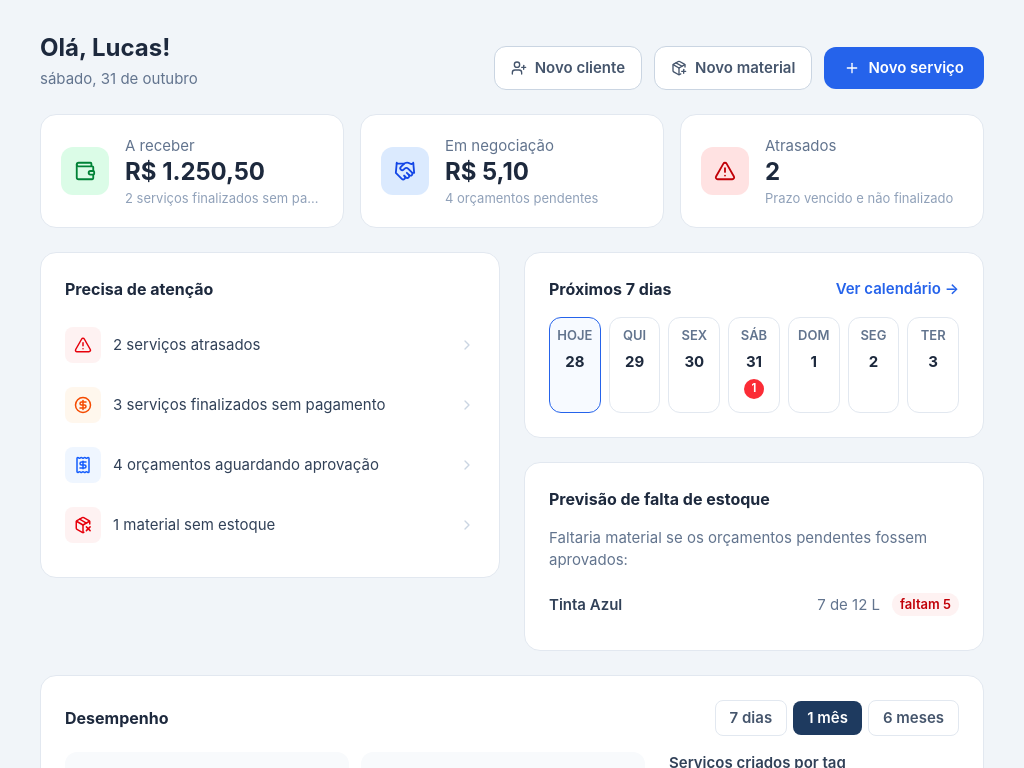
Test case: tela inicial › "Em negociação" abre o modal de orçamentos pendentes e leva aos orçamentos do serviço
The image size is (1024, 768).
Click the text "Em negociação".
click(499, 146)  # box [445,136,554,155]
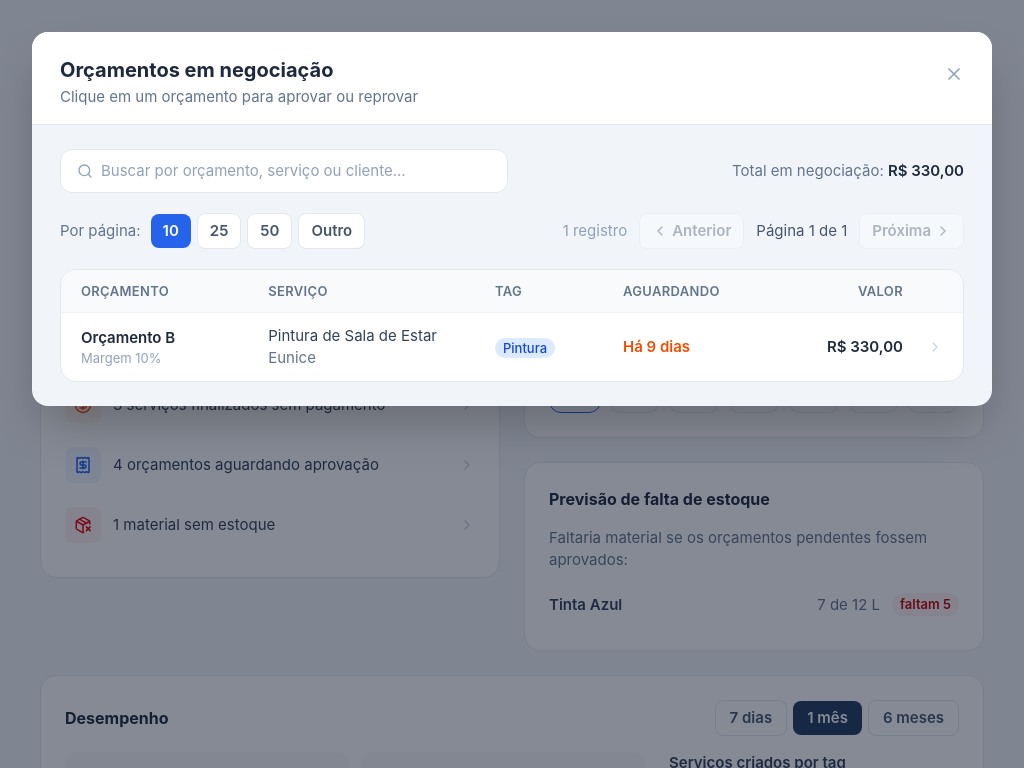
expect the heading "Orçamentos em negociação" is shown: met, box [60,58,333,82]
expect the text "Orçamento B" is shown: met
expect the text "Há 9 dias" is shown: met, box [623,337,690,356]
Click the text "Orçamento B".
click(128, 338)  # box [81,328,175,347]
(page scrolled)
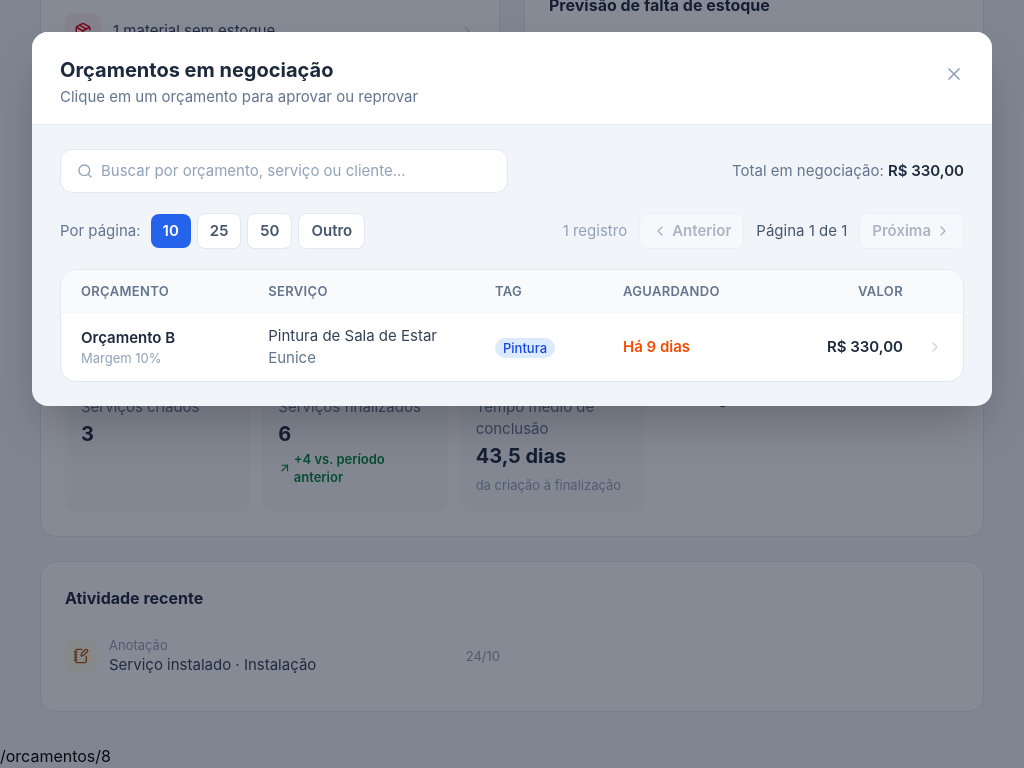
expect the text with test id "local" reads "/orcamentos/8": met, box [0,746,111,766]
